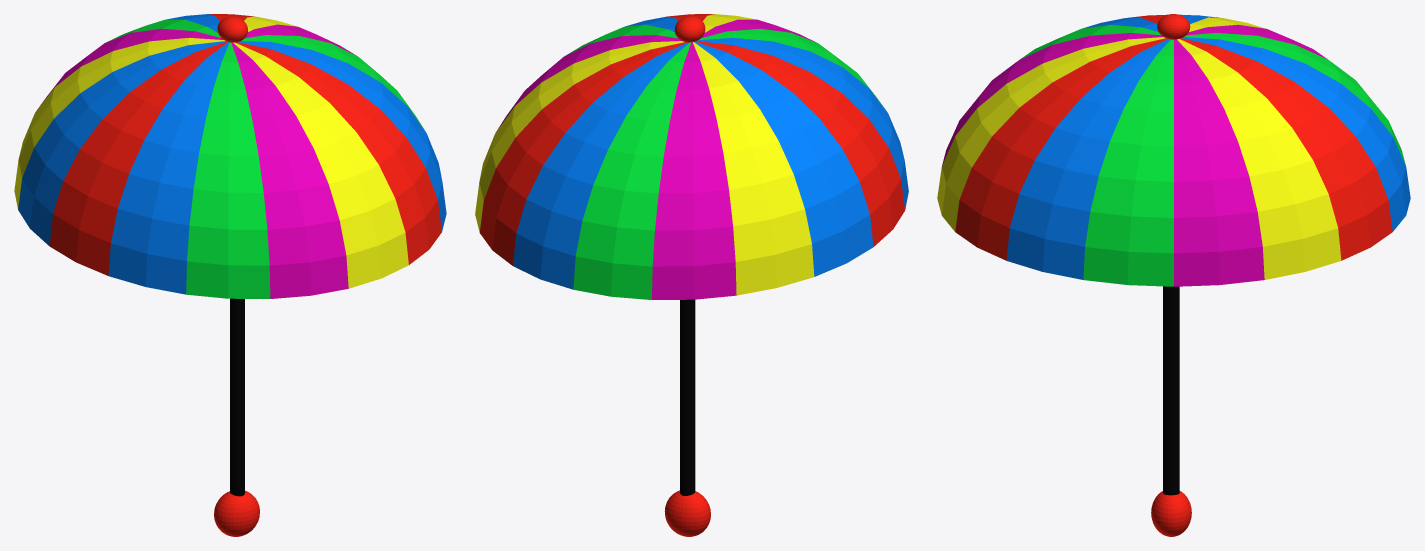
Rendered from umbrella.fbx.
The picture shows the model from 3 angles, left to right: view 1: azimuth 30°, elevation 25°; view 2: azimuth 150°, elevation 25°; view 3: azimuth 270°, elevation 25°; orthographic projection.
Visible parts, largest first — view 1: Sphere, Cylinder, Sphere.002, Sphere.001; view 2: Sphere, Cylinder, Sphere.002, Sphere.001; view 3: Sphere, Cylinder, Sphere.002, Sphere.001.
Part boxes in pixels (box(x1,y1,x2,y2)): Sphere: box(14, 14, 446, 298); Cylinder: box(230, 298, 244, 496); Sphere.002: box(214, 490, 259, 536); Sphere.001: box(217, 16, 247, 42); Sphere: box(475, 14, 908, 299); Cylinder: box(680, 299, 695, 495); Sphere.002: box(664, 490, 710, 536); Sphere.001: box(674, 16, 705, 42); Sphere: box(937, 14, 1410, 286); Cylinder: box(1163, 286, 1179, 495); Sphere.002: box(1151, 491, 1191, 536); Sphere.001: box(1157, 14, 1190, 39).
Bounding box in the file's own units: 3960 × 5403 × 4480.
